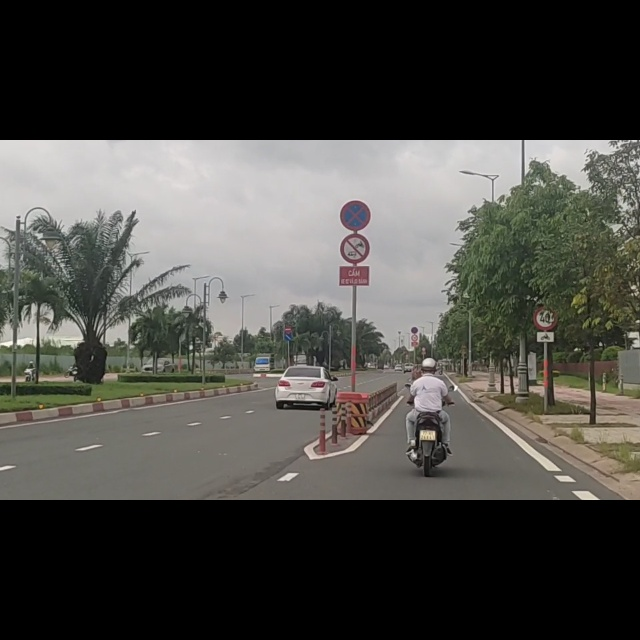bien_cam: (339, 104, 372, 161), (339, 162, 371, 218), (531, 295, 558, 339), (533, 338, 555, 366)
